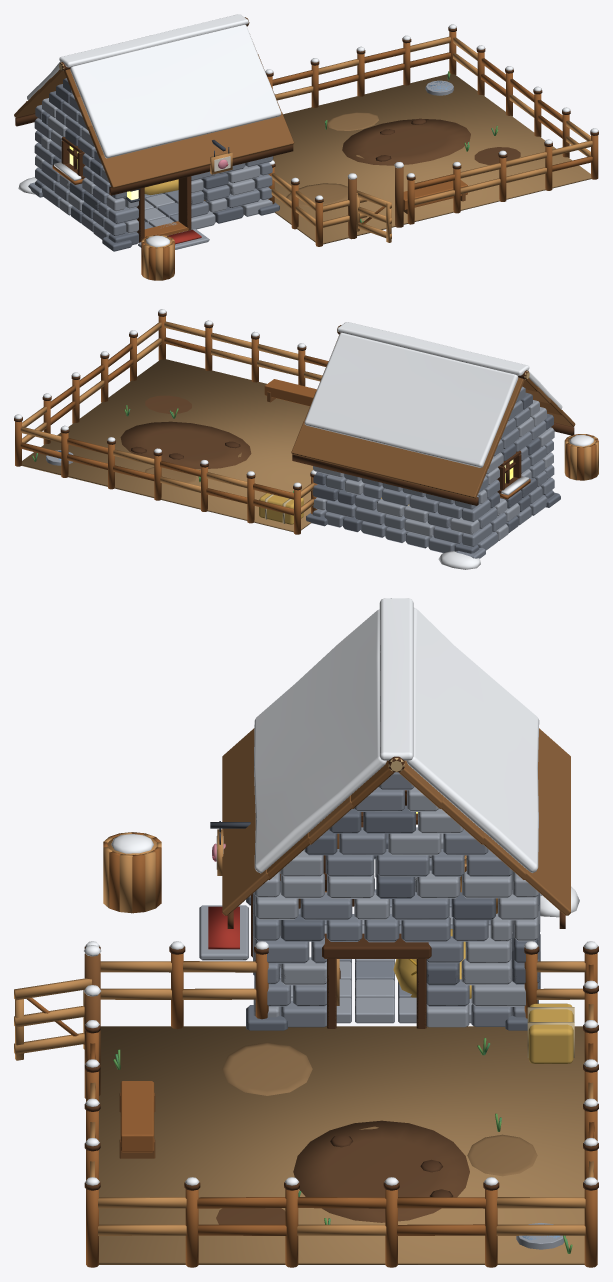
Rendered from pigsty.glb.
3 views of the same model, one above another, from view 1: azimuth 30°, elevation 25°; view 2: azimuth 150°, elevation 25°; view 3: azimuth 270°, elevation 25° (orthographic). The views are drawn at different scales.
Parts seen in each view (by area): view 1: roof, floor, exterior, walls, walls_low, interior; view 2: roof, floor, exterior, walls, walls_low; view 3: floor, roof, exterior, walls, walls_low, interior.
Part boxes in pixels (x1,y1,x2,y2): roof: [14, 14, 294, 195]; floor: [138, 74, 591, 249]; exterior: [18, 24, 598, 280]; walls: [28, 105, 279, 251]; walls_low: [35, 164, 271, 241]; interior: [82, 178, 178, 195]; roof: [291, 322, 575, 505]; floor: [21, 359, 433, 536]; exterior: [14, 309, 598, 569]; walls: [306, 413, 560, 558]; walls_low: [313, 470, 554, 532]; floor: [99, 889, 584, 1264]; roof: [222, 598, 570, 928]; exterior: [14, 832, 598, 1267]; walls: [210, 790, 542, 1030]; walls_low: [251, 848, 540, 1028]; interior: [325, 855, 497, 998].
Size of the model in its own units: 9.18 by 3.2 by 5.87.
